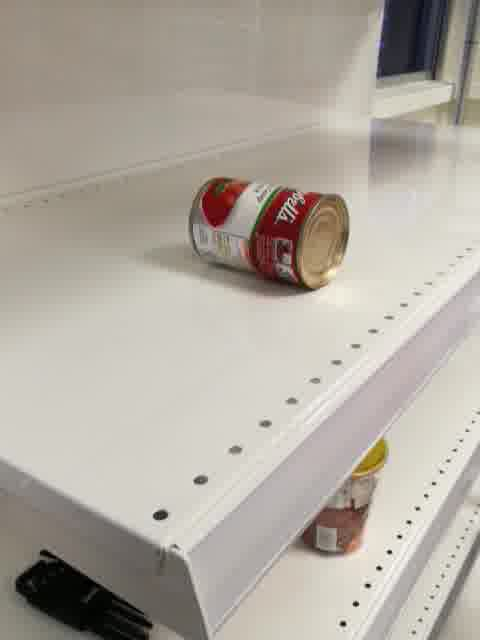tomatosoup: (187, 176, 351, 292)
